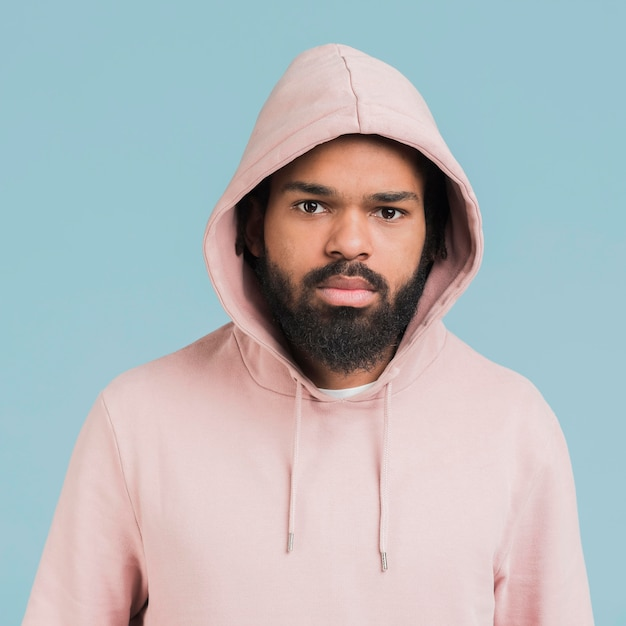young: (252, 117, 441, 387)
